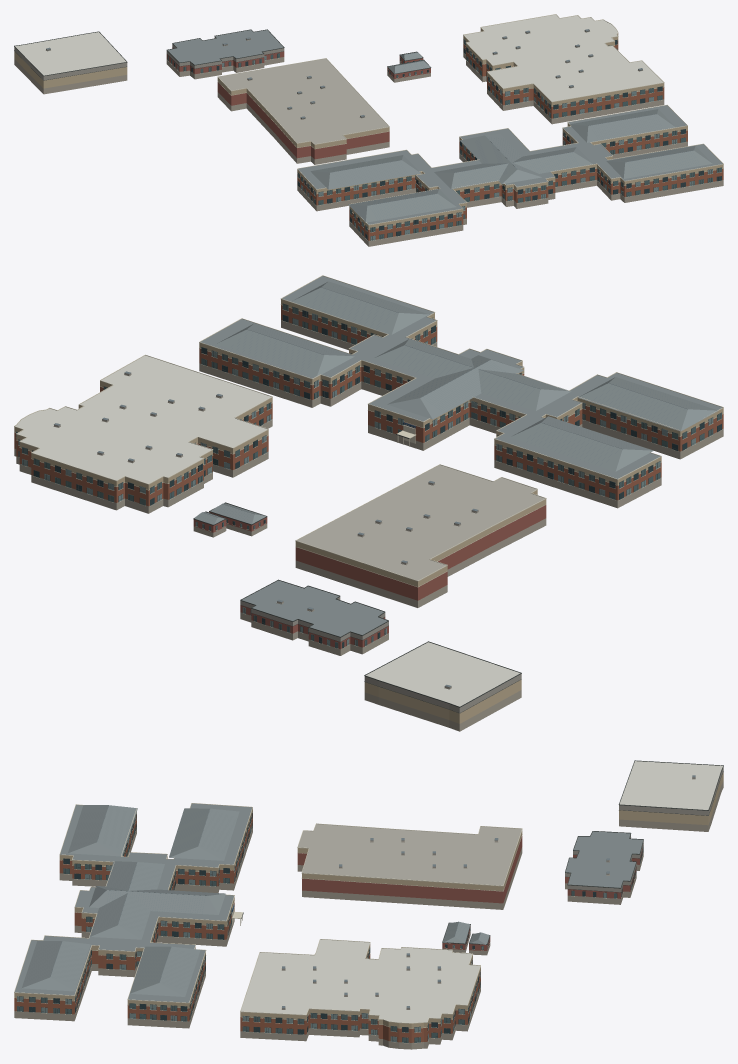
File: oxford-high.glb
3 renders of one model, top to bottom at view 1: azimuth 30°, elevation 25°; view 2: azimuth 150°, elevation 25°; view 3: azimuth 270°, elevation 25°, orthographic. The views are drawn at different scales.
Visible parts, largest first — view 1: 598588249 | Roof, 598588249 | Shell and foundation, 1243705430 | Roof, 598588249 | Facades, 1486533054 | Roof, 1486533054 | Shell and foundation; view 2: 598588249 | Roof, 598588249 | Shell and foundation, 1243705430 | Roof, 598588249 | Facades, 1486533054 | Roof, 1486533054 | Shell and foundation; view 3: 598588249 | Roof, 598588249 | Shell and foundation, 1243705430 | Roof, 598588249 | Facades, 1486533054 | Roof, 1486533054 | Shell and foundation.
Boxes of the visible parts, x1,y1,x2,y2 form: 598588249 | Roof: (46,29,722,224); 598588249 | Shell and foundation: (14,28,723,246); 1243705430 | Roof: (14,14,663,119); 598588249 | Facades: (14,14,723,240); 1486533054 | Roof: (218,58,388,144); 1486533054 | Shell and foundation: (166,47,430,159); 598588249 | Roof: (54,276,722,687); 598588249 | Shell and foundation: (14,299,723,731); 1243705430 | Roof: (15,355,521,712); 598588249 | Facades: (14,275,723,713); 1486533054 | Roof: (297,465,544,580); 1486533054 | Shell and foundation: (193,505,546,649); 598588249 | Roof: (15,775,695,1008); 598588249 | Shell and foundation: (14,772,723,1049); 1243705430 | Roof: (241,761,723,1022); 598588249 | Facades: (14,760,723,1043); 1486533054 | Roof: (298,824,521,941); 1486533054 | Shell and foundation: (297,836,643,950).
Bounding box in the file's own units: 246 × 14.63 × 273.
